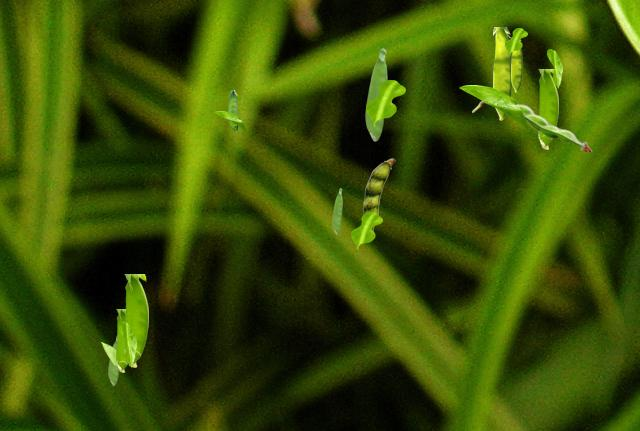pea: (472, 97, 591, 150), (363, 158, 394, 230), (124, 274, 147, 366), (365, 48, 386, 140), (493, 27, 511, 119), (538, 69, 557, 148), (116, 309, 127, 371), (511, 39, 521, 91), (108, 339, 119, 384), (332, 188, 341, 233), (228, 90, 236, 131)
